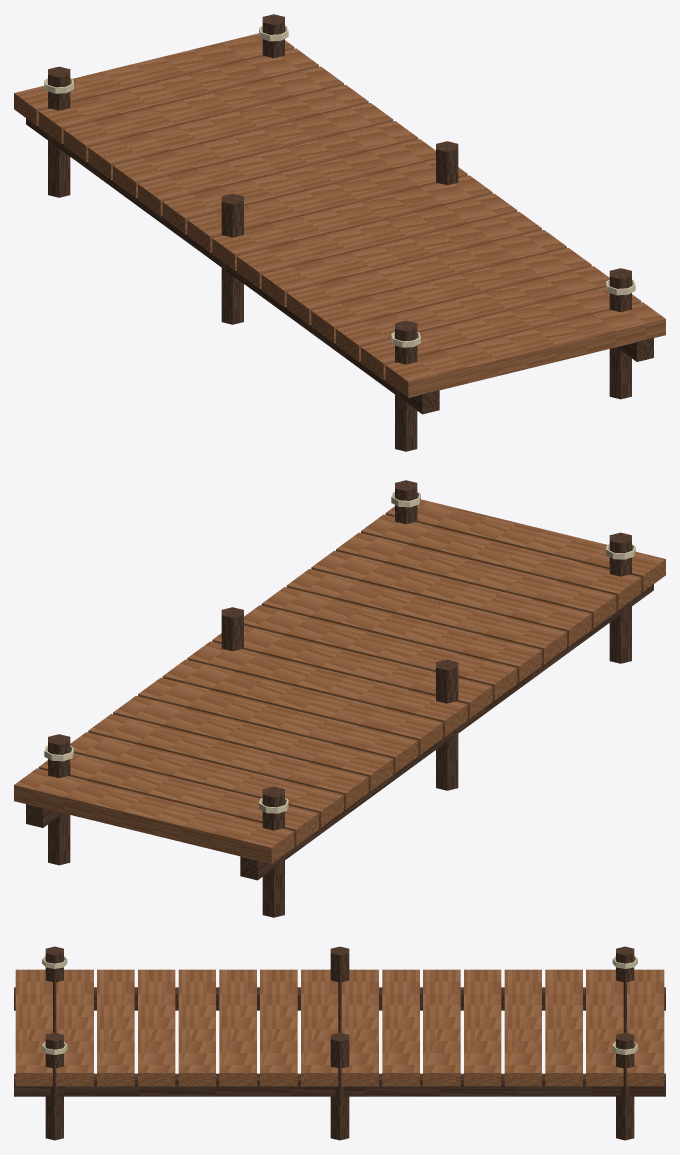
Rendered from Ponton_Bois.glb.
3 views of the same model, one above another, from view 1: azimuth 30°, elevation 25°; view 2: azimuth 150°, elevation 25°; view 3: azimuth 270°, elevation 25° (orthographic). The views are drawn at different scales.
Parts seen in each view (by area): view 1: Structure; view 2: Structure; view 3: Structure.
Boxes of the visible parts, x1,y1,x2,y2 form: Structure: (14, 14, 665, 451); Structure: (14, 480, 665, 917); Structure: (14, 946, 665, 1140).
Size of the model in its own units: 3 by 1.34 by 8.
Materials: 1 (1 with a texture image).
